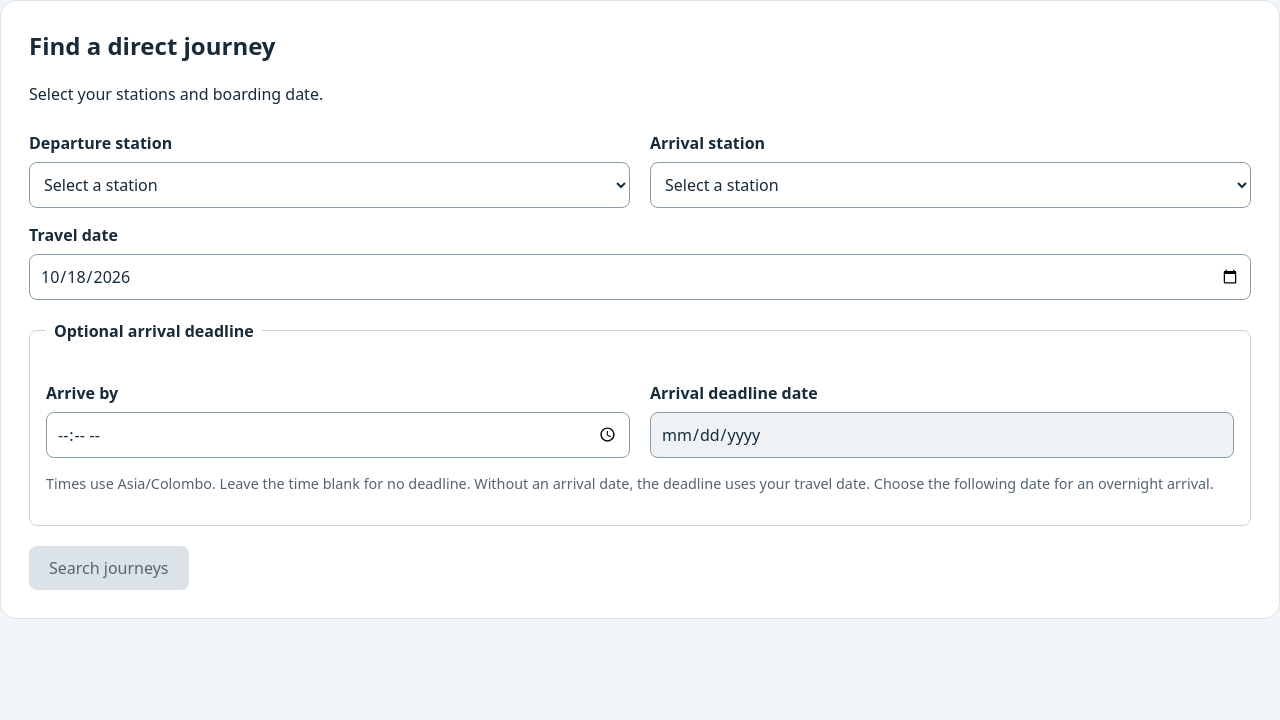
Test: Arrival deadline controls › rejects an arrival date before the travel date
The width and height of the screenshot is (1280, 720).
Select "Colombo Fort" in the dropdown labelled "Departure station" at (330, 184), box [29,162,630,208]
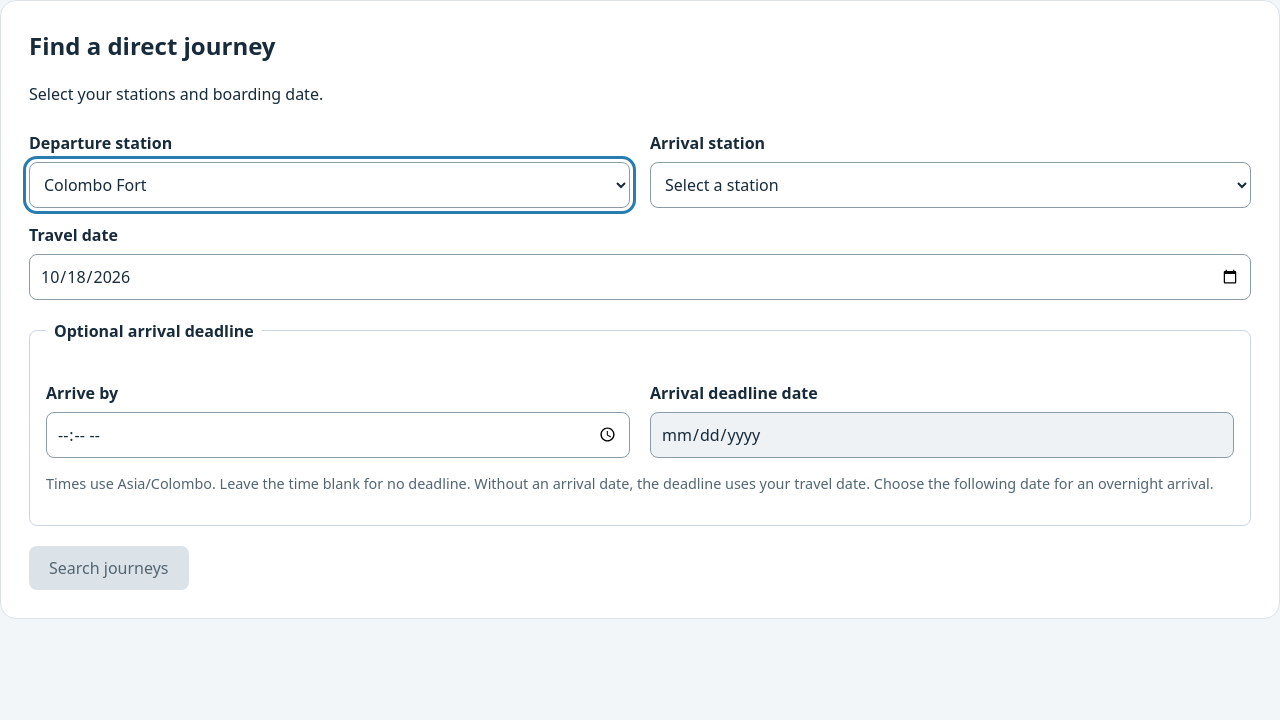
Select "Jaffna" in the dropdown labelled "Arrival station" at (950, 184), box [650,162,1251,208]
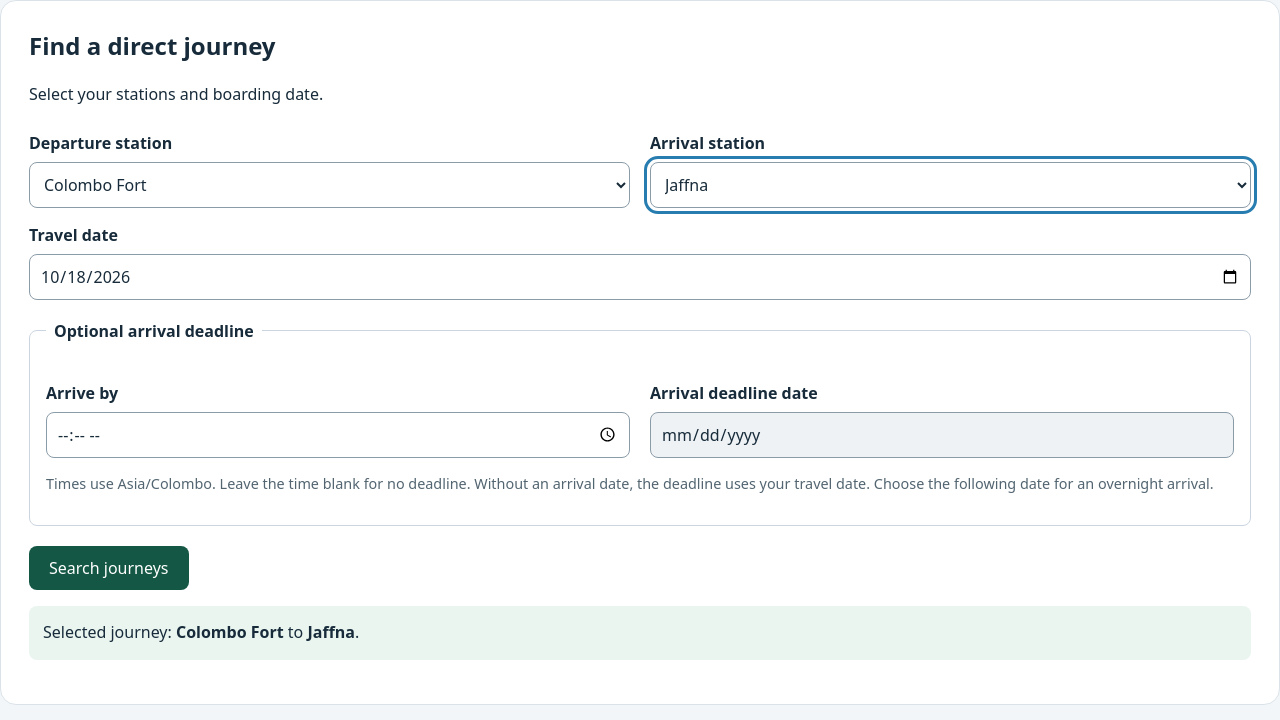
Type "2026-10-12" into the date field labelled "Travel date" at (640, 276), box [29,254,1251,300]
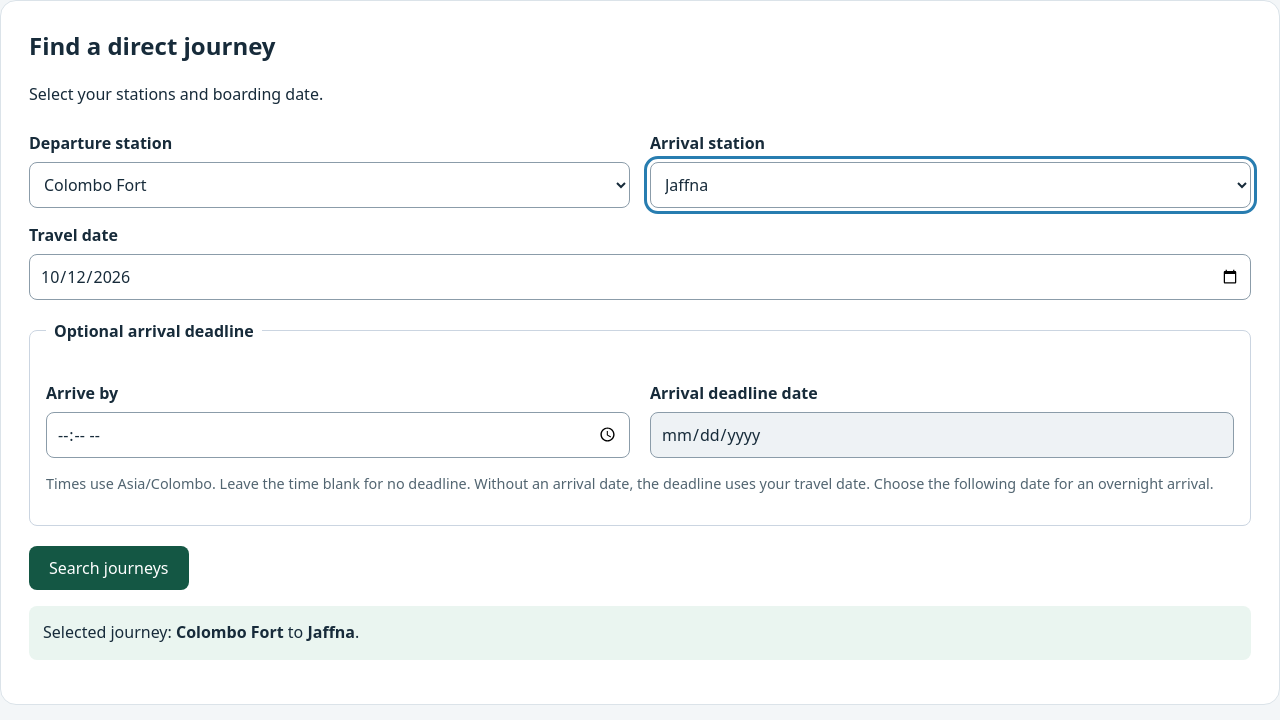
Type "06:00" into the time field labelled "Arrive by" at (338, 434), box [46,412,630,458]
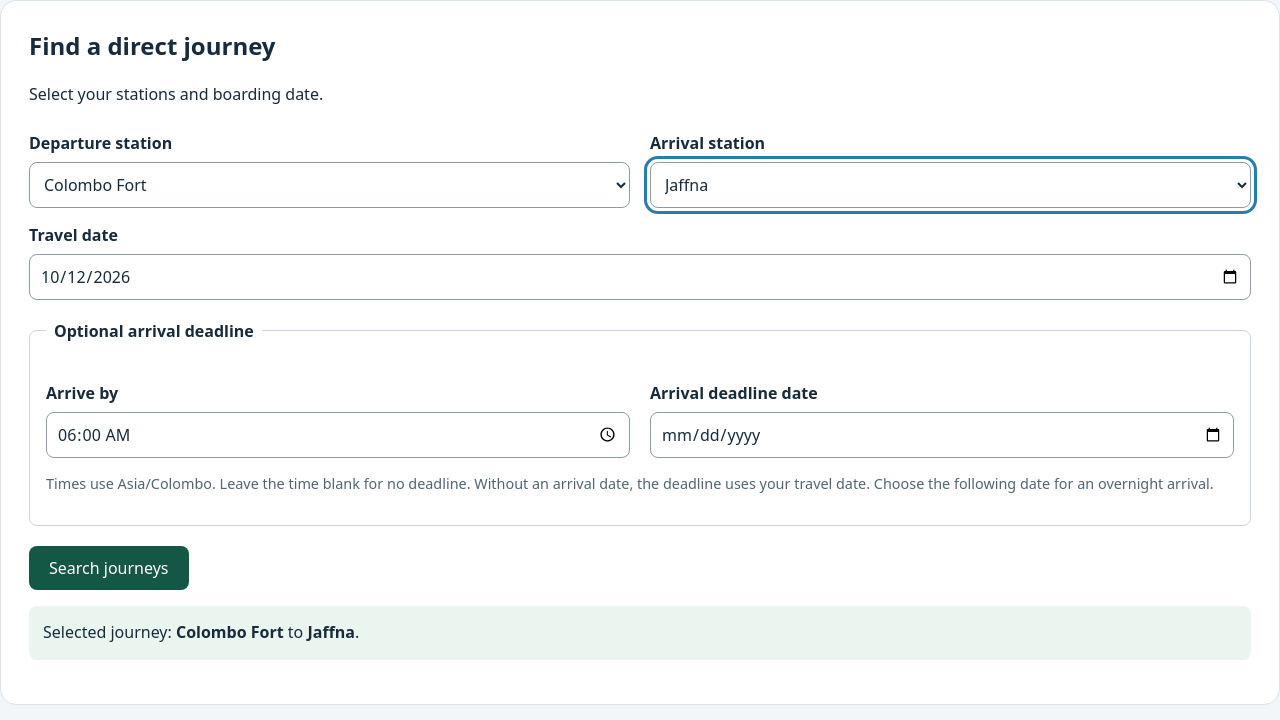
Type "2026-10-11" into the date field labelled "Arrival deadline date" at (942, 434), box [650,412,1234,458]
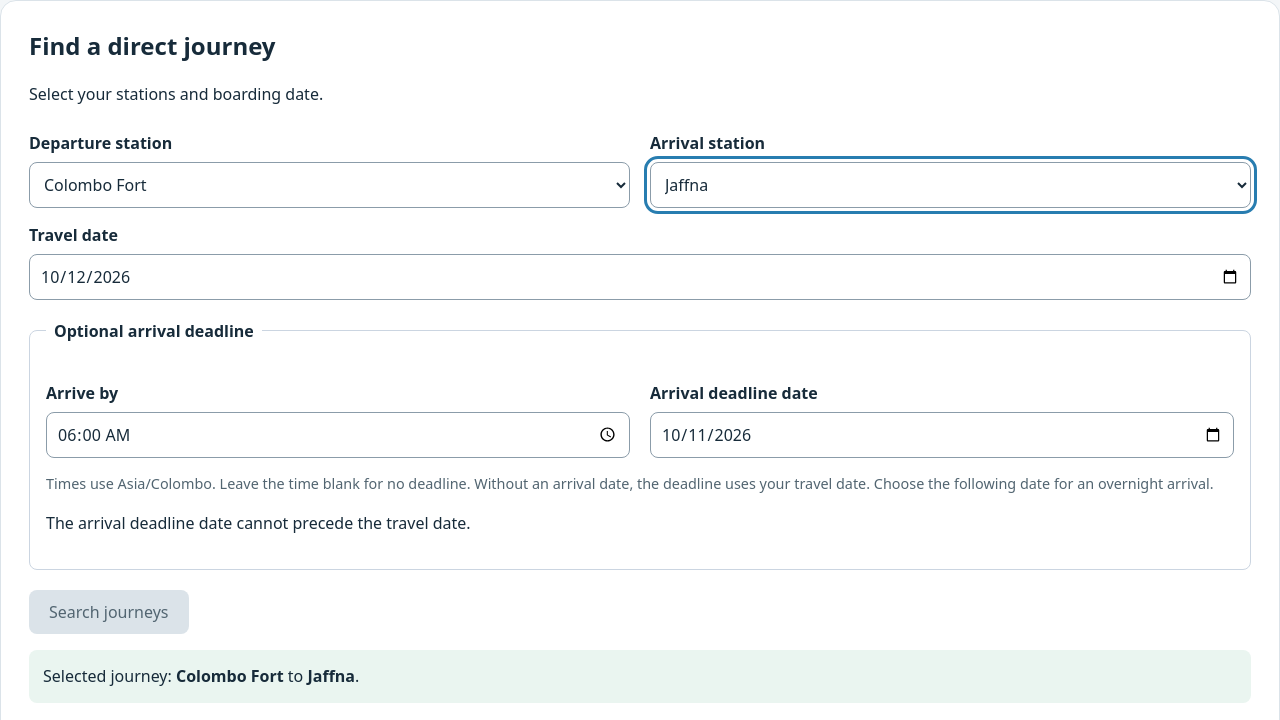
Expected: the message "The arrival deadline date cannot precede the travel date." is shown, [46,512,471,534]
Expected: the button "Search journeys" is disabled, [29,590,188,634]
